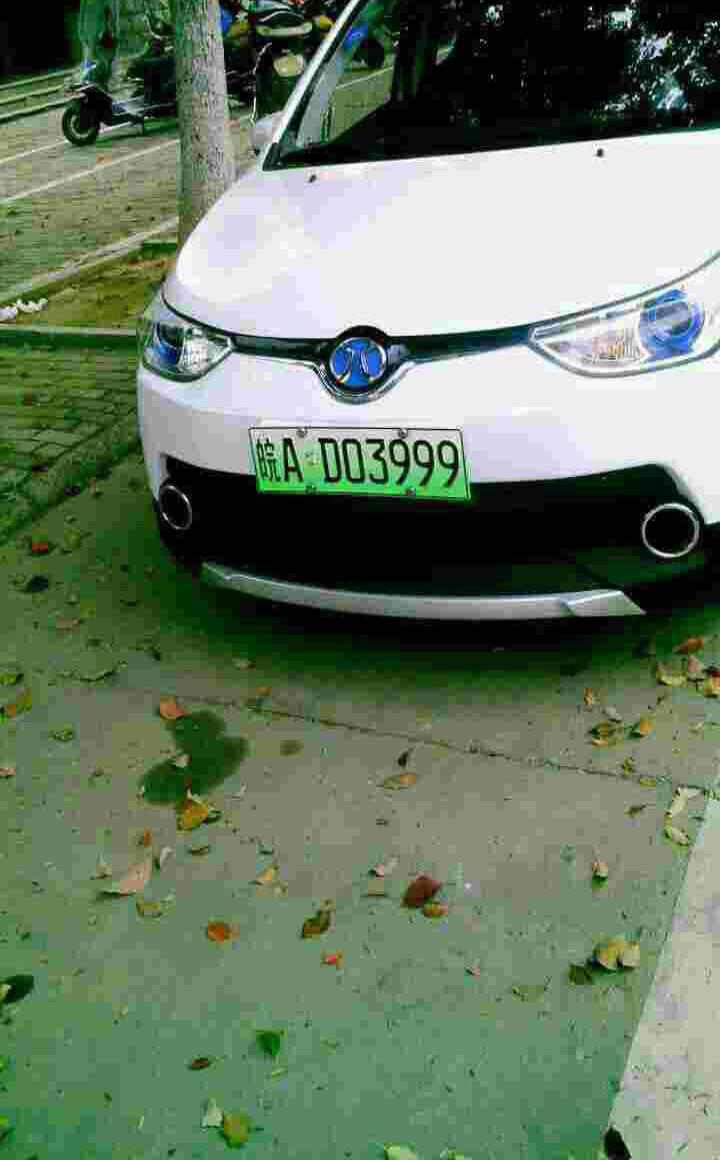car: (248, 427, 472, 504)
